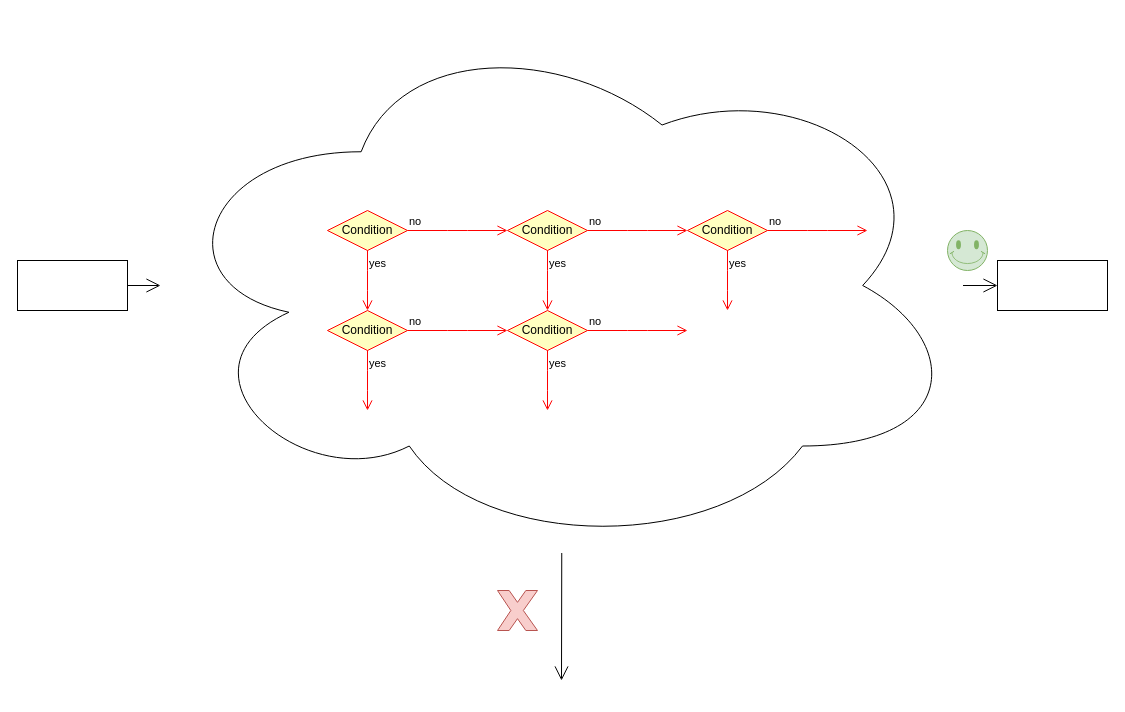
Some shapes in this 1125 by 712 pixel diagram are drawn without their labels. Here are the shapes that lost their labels. From the top down, the centre of each, then its label:
At (x=72, y=285): "Request".
At (x=1052, y=285): "Course Application System".
